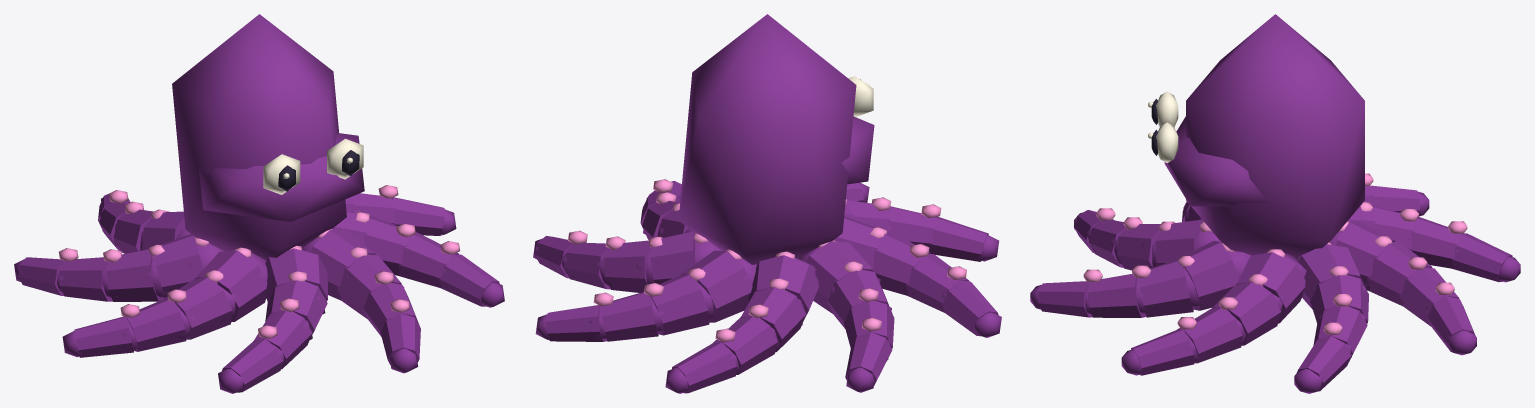
The model's file is t-kraken.glb.
The picture shows the model from 3 angles, left to right: view 1: azimuth 30°, elevation 25°; view 2: azimuth 150°, elevation 25°; view 3: azimuth 270°, elevation 25°; orthographic projection.
Visible parts, largest first — view 1: titan_kraken_body; view 2: titan_kraken_body; view 3: titan_kraken_body.
Part boxes in pixels (<box>): titan_kraken_body: <box>14,14,504,393</box>; titan_kraken_body: <box>533,14,1001,393</box>; titan_kraken_body: <box>1030,14,1520,393</box>.
Bounding box in the file's own units: 3.66 × 2.33 × 3.67.
